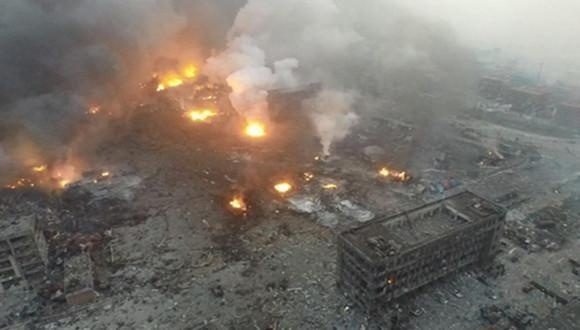fire: (0, 156, 102, 192), (149, 56, 213, 103), (240, 117, 267, 139), (376, 163, 407, 180)
